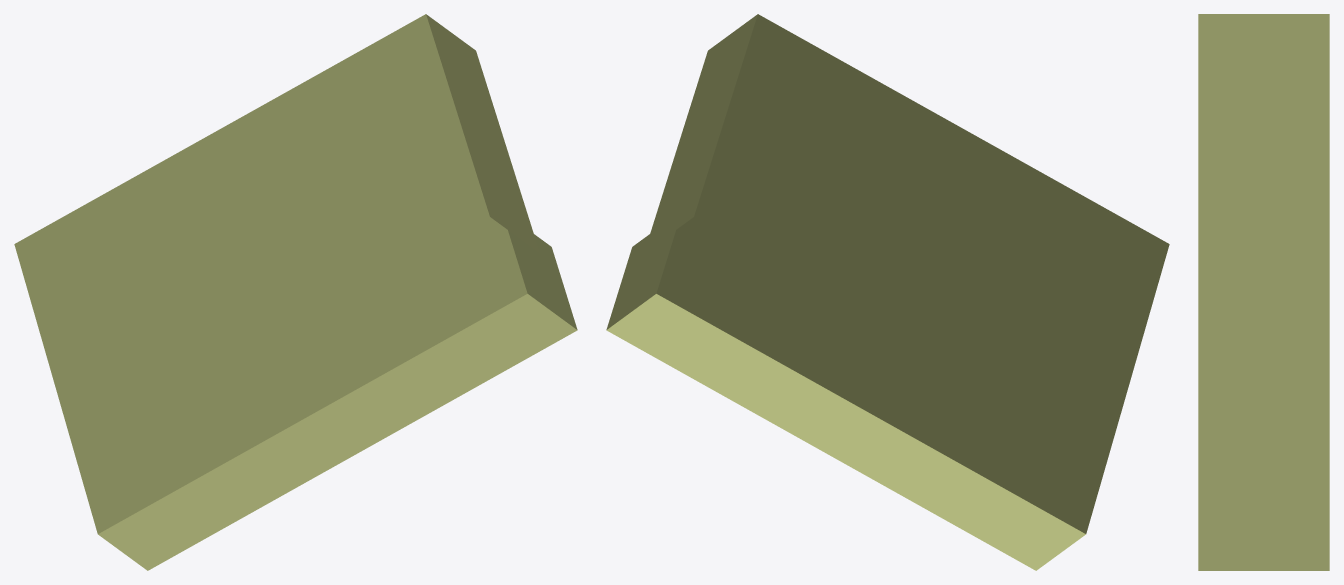
3 views of the same model, side by side, from view 1: azimuth 30°, elevation 25°; view 2: azimuth 150°, elevation 25°; view 3: azimuth 270°, elevation 25° (orthographic). The views are drawn at different scales.
Visible parts, largest first — view 1: 0_2_3_2_2_0_1; view 2: 0_2_3_2_2_0_1; view 3: 0_2_3_2_2_0_1.
Part boxes in pixels (<box>): 0_2_3_2_2_0_1: <box>14,14,577,570</box>; 0_2_3_2_2_0_1: <box>606,14,1169,570</box>; 0_2_3_2_2_0_1: <box>1198,14,1329,570</box>.
Size of the model in its own units: 35.53 by 29.12 by 6.
